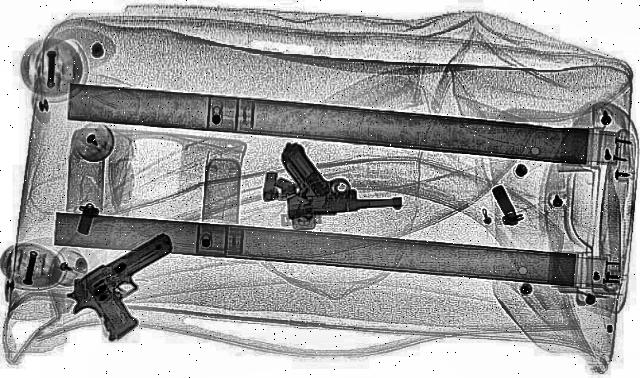Gun: (32, 232, 242, 342), (270, 136, 404, 218)
